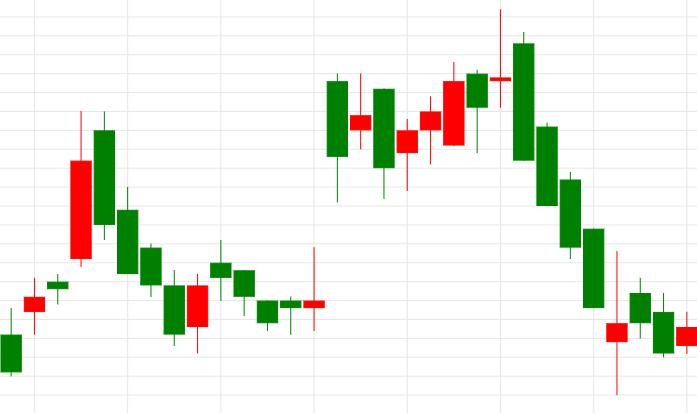three_black_crows_fall: (350, 8, 581, 259), (0, 109, 162, 376)
